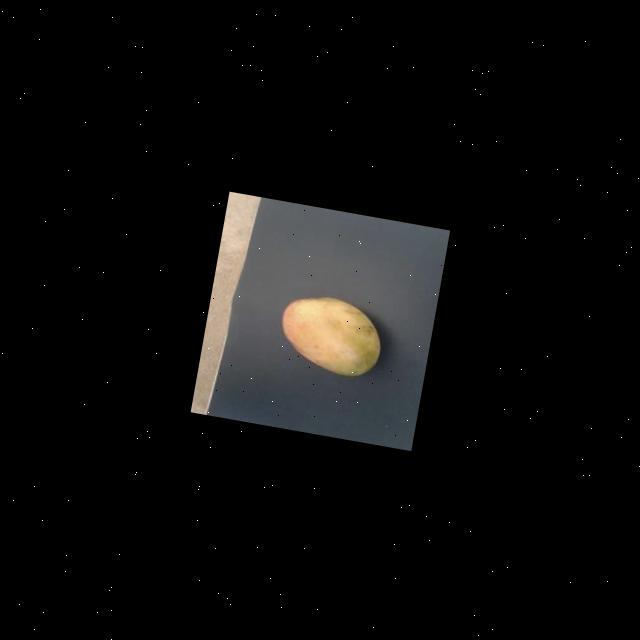Mango: (273, 288, 387, 381)
